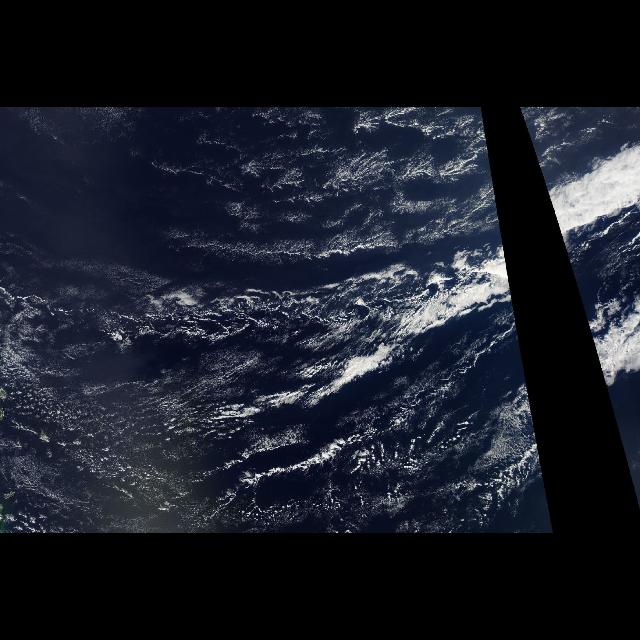Fish: (282, 280, 526, 372)
Gravel: (2, 342, 225, 520)
Sugar: (2, 291, 218, 531), (158, 116, 506, 264)
